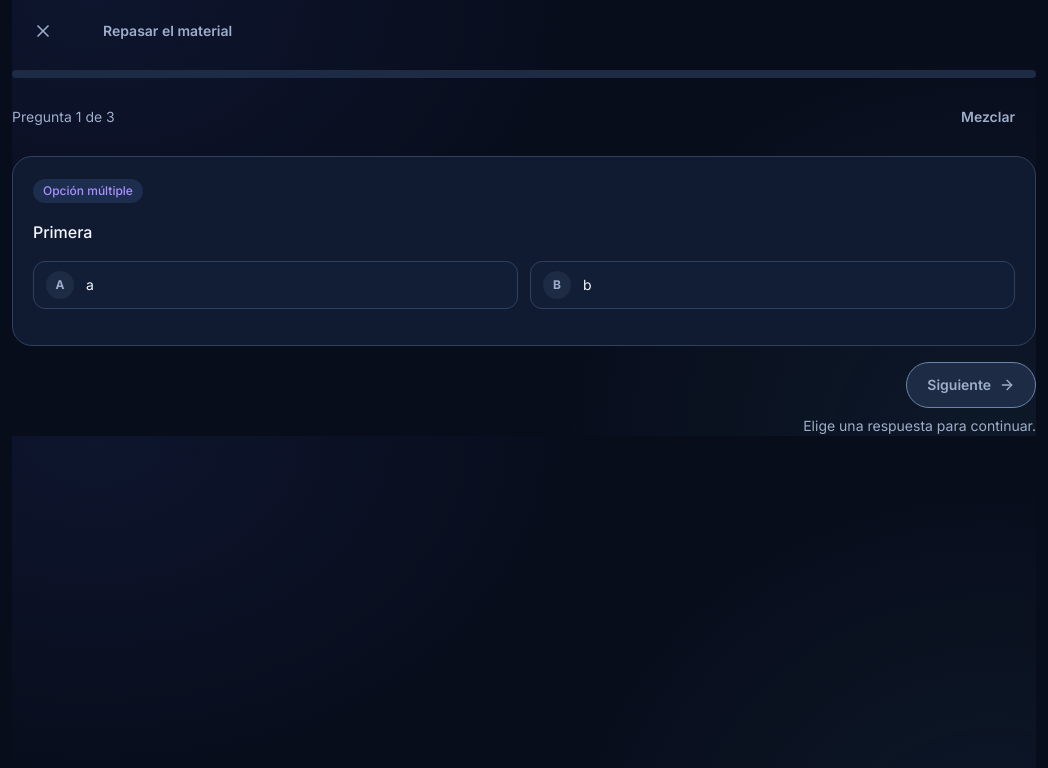
Scenario: review quiz › Mezclar reorders only before the first answer and is absent on NEW sessions
The width and height of the screenshot is (1048, 768).
Expected: the text "Primera" is shown, [33,222,92,242]
Click the button "Mezclar".
click(988, 117)  # box [940,94,1036,140]
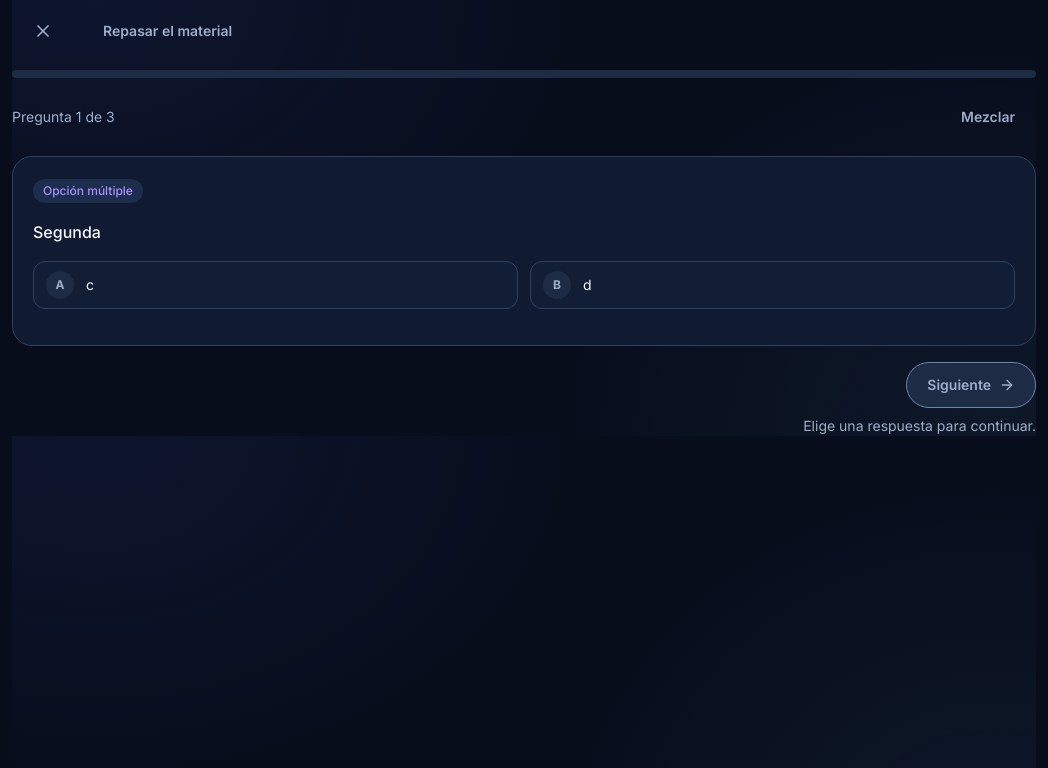
Now the text "Segunda" is shown, box [33,222,101,242]
Click the button "A c".
click(60, 285)  # box [33,261,518,309]
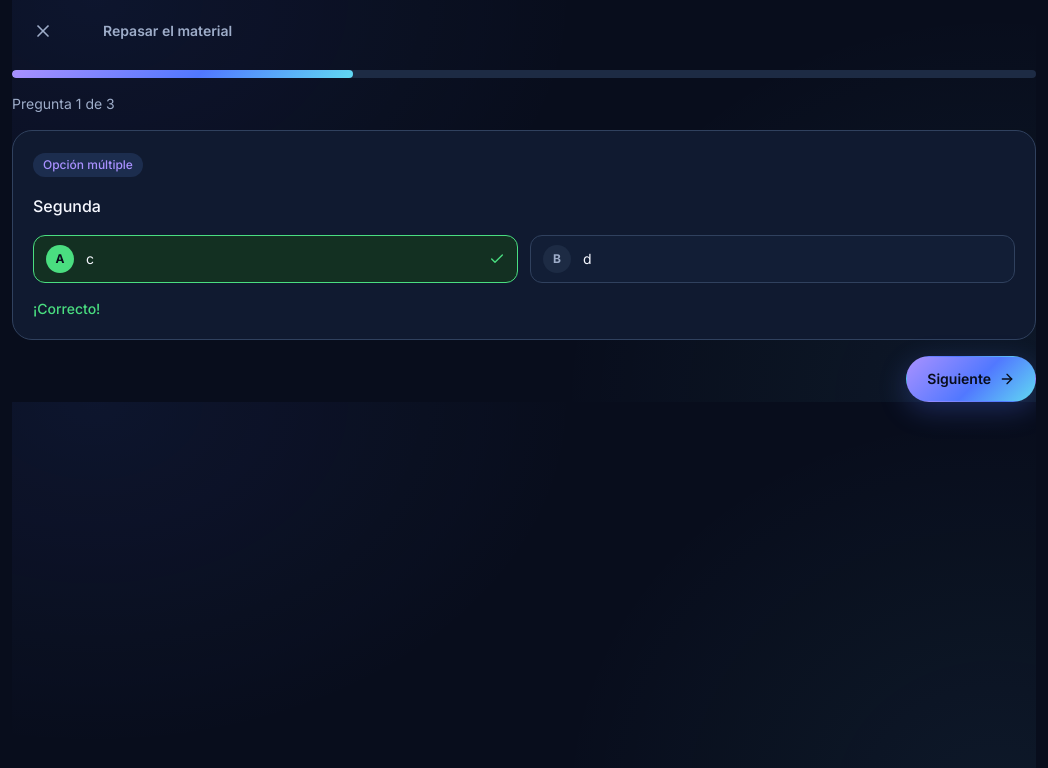
Now the button "Mezclar" is gone
